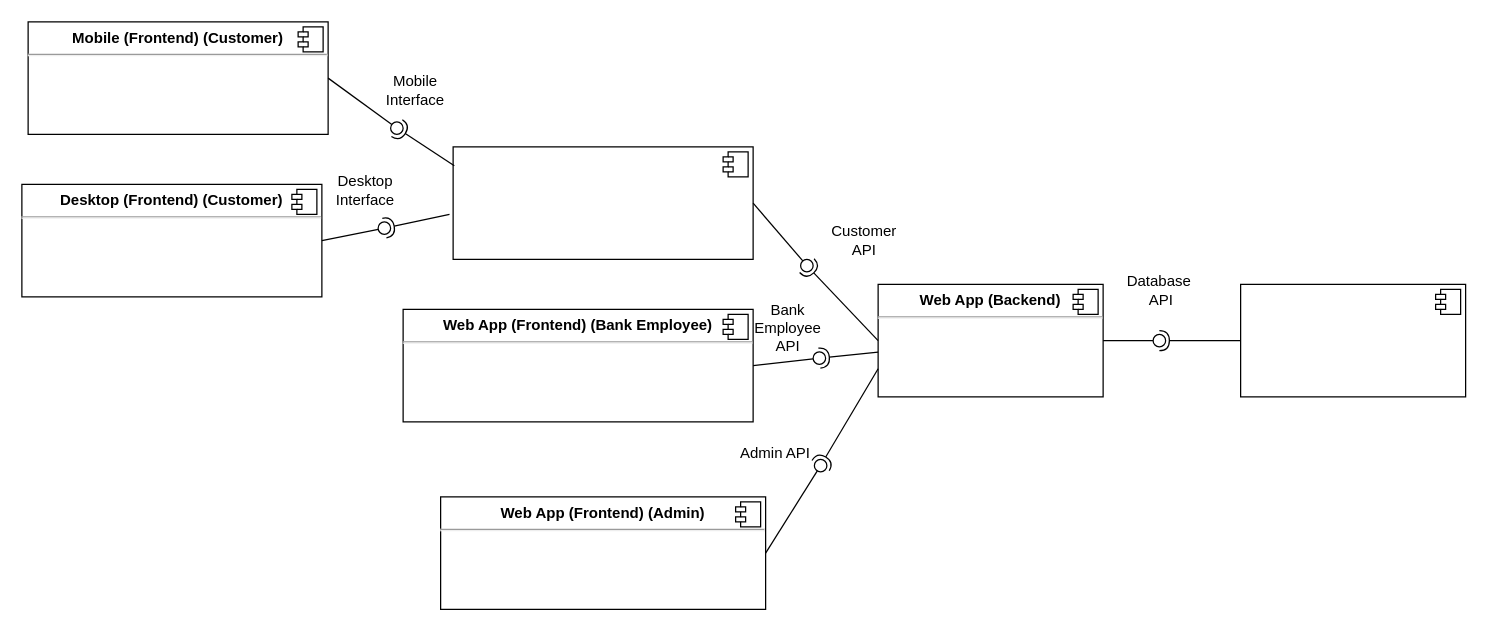
This 1488x631 diagram has some shape labels left out. The centre of each missing label's shape, as x and y in pixels:
"Database" goes at point 1352,340.
"Web App (Frontend) (Customer)" goes at point 602,202.
